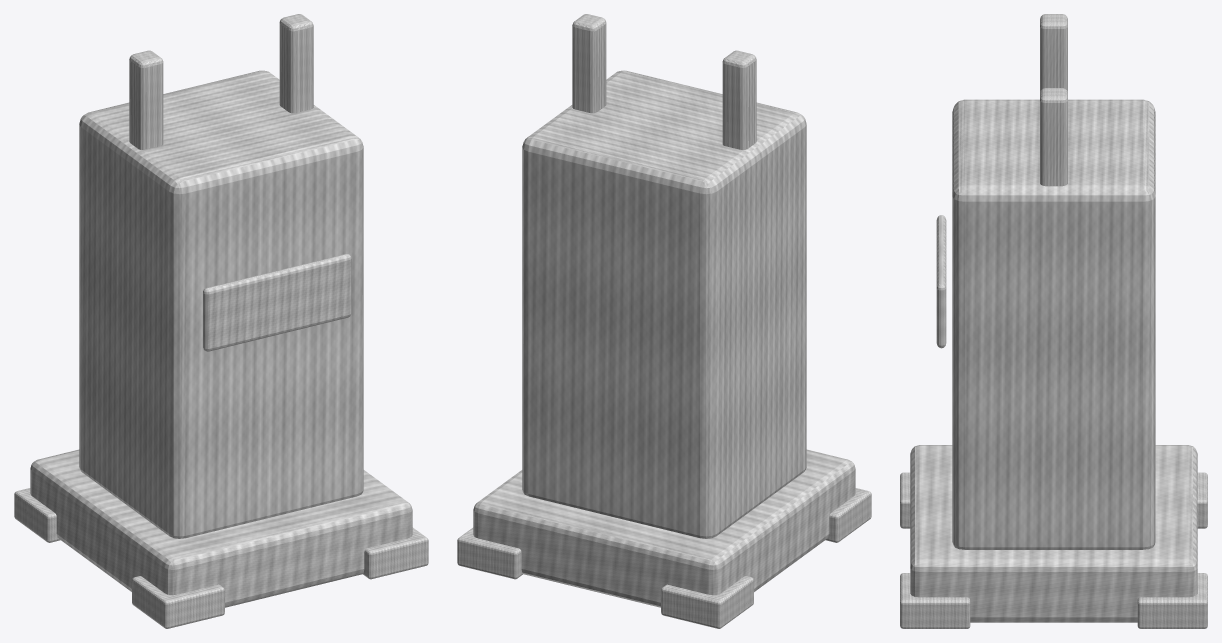
Rendered from conveyor-wall-mount_variant_a.glb.
3 renders of one model, left to right at view 1: azimuth 30°, elevation 25°; view 2: azimuth 150°, elevation 25°; view 3: azimuth 270°, elevation 25°, orthographic.
Visible parts, largest first — view 1: Equipment body, Foundation, Connection plate.001, Support strut, Support strut.001, Mounting foot, Mounting foot.002, Mounting foot.001; view 2: Equipment body, Foundation, Support strut, Support strut.001, Mounting foot.001, Mounting foot.003, Mounting foot; view 3: Equipment body, Foundation, Support strut.001, Mounting foot.002, Mounting foot.003, Support strut, Connection plate.001, Mounting foot, Mounting foot.001.
Boxes of the visible parts, x1,y1,x2,y2 form: Equipment body: (79, 70, 363, 538); Foundation: (30, 449, 412, 607); Connection plate.001: (203, 254, 351, 351); Support strut: (129, 50, 163, 149); Support strut.001: (279, 14, 313, 113); Mounting foot: (132, 576, 224, 628); Mounting foot.002: (363, 527, 428, 579); Mounting foot.001: (14, 488, 60, 542); Equipment body: (522, 70, 806, 538); Foundation: (473, 449, 855, 607); Support strut: (722, 50, 756, 149); Support strut.001: (572, 14, 606, 113); Mounting foot.001: (661, 576, 753, 628); Mounting foot.003: (457, 527, 522, 579); Mounting foot: (825, 488, 871, 542); Equipment body: (952, 99, 1155, 549); Foundation: (910, 445, 1197, 622); Support strut.001: (1040, 88, 1067, 186); Mounting foot.002: (900, 573, 970, 628); Mounting foot.003: (1137, 573, 1207, 628); Support strut: (1040, 14, 1067, 92); Connection plate.001: (936, 215, 946, 348); Mounting foot: (900, 472, 910, 528); Mounting foot.001: (1197, 472, 1207, 528).
Size of what is drawn, in the model's own units: 1.97 by 3.6 by 1.97.
4 materials, 4 textured.
